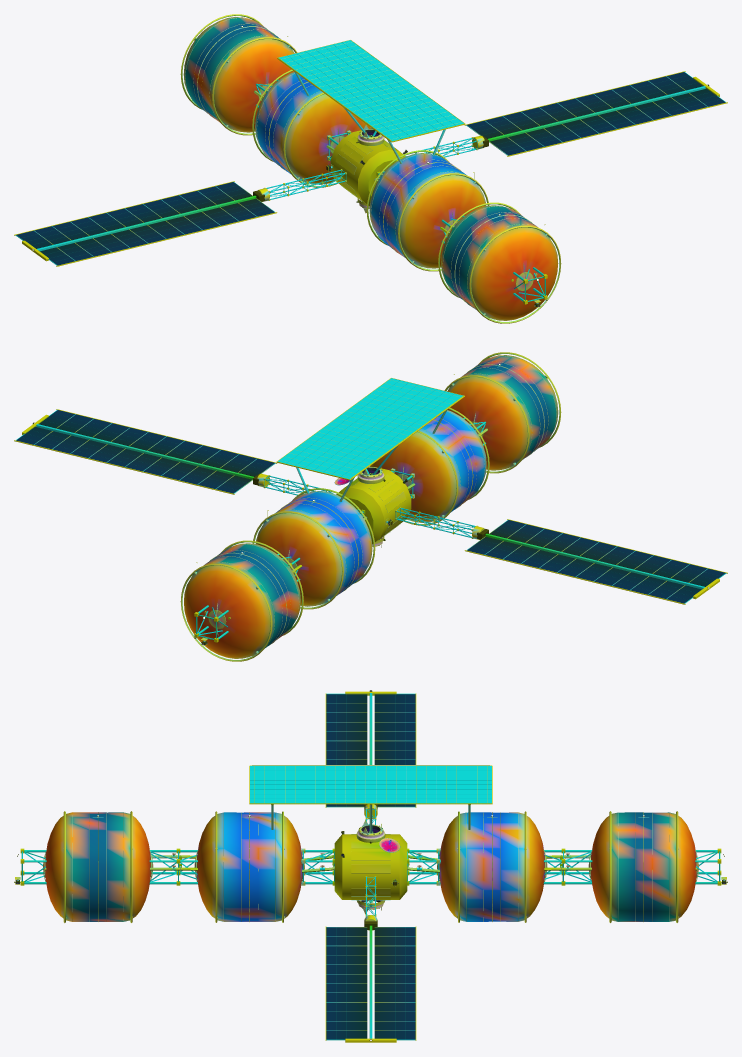
The model's file is depot.glb.
3 views of the same model, one above another, from view 1: azimuth 30°, elevation 25°; view 2: azimuth 150°, elevation 25°; view 3: azimuth 270°, elevation 25° (orthographic). The views are drawn at different scales.
Parts seen in each view (by area): view 1: DEPOT_BODY; view 2: DEPOT_BODY; view 3: DEPOT_BODY.
Part boxes in pixels (x1=…): DEPOT_BODY: x1=14, y1=14, x2=727, y2=323; DEPOT_BODY: x1=14, y1=352, x2=727, y2=661; DEPOT_BODY: x1=14, y1=690, x2=727, y2=1042.
Bounding box in the file's own units: 54.65 × 9.78 × 47.11.
